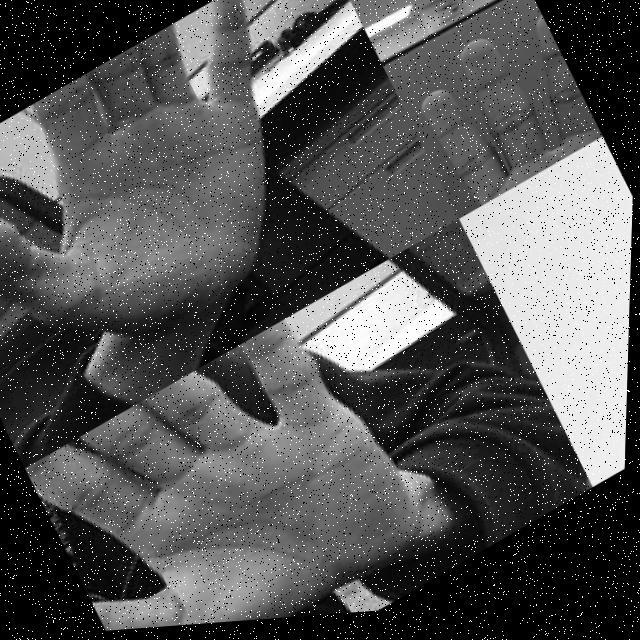no-gloves: (0, 0, 368, 409), (22, 298, 440, 638), (388, 4, 606, 230)
